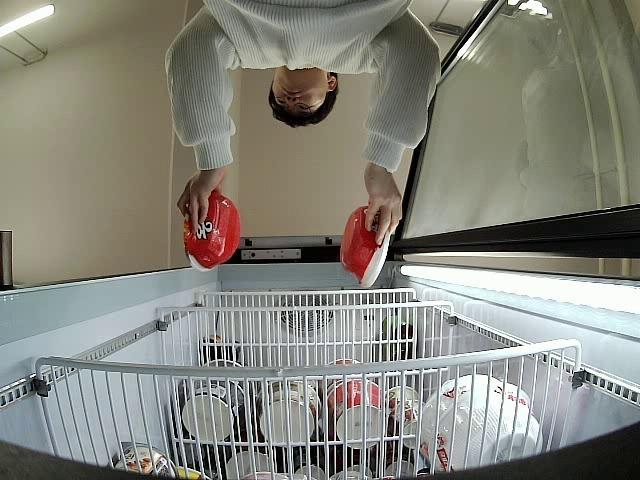10_wangTtukkeong: (184, 194, 242, 274), (339, 206, 388, 287)
